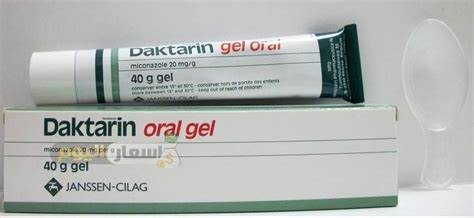Medicine: (3, 106, 407, 213), (23, 22, 371, 105)
